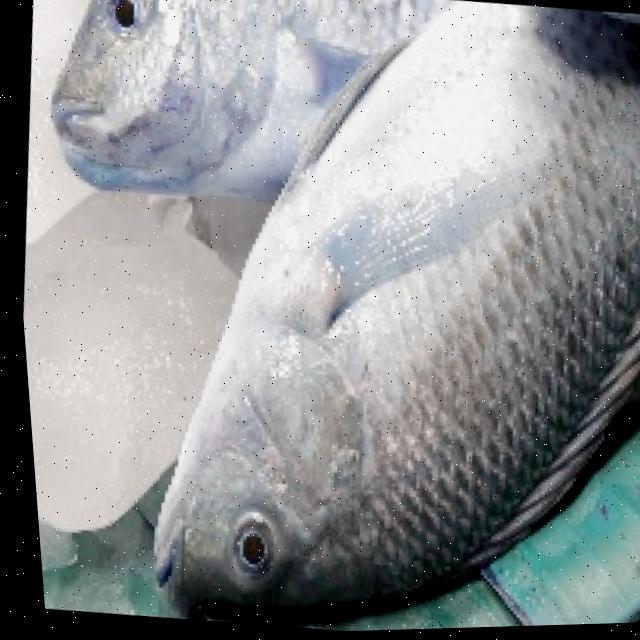Fresh: (51, 94, 640, 628), (38, 0, 384, 230)
